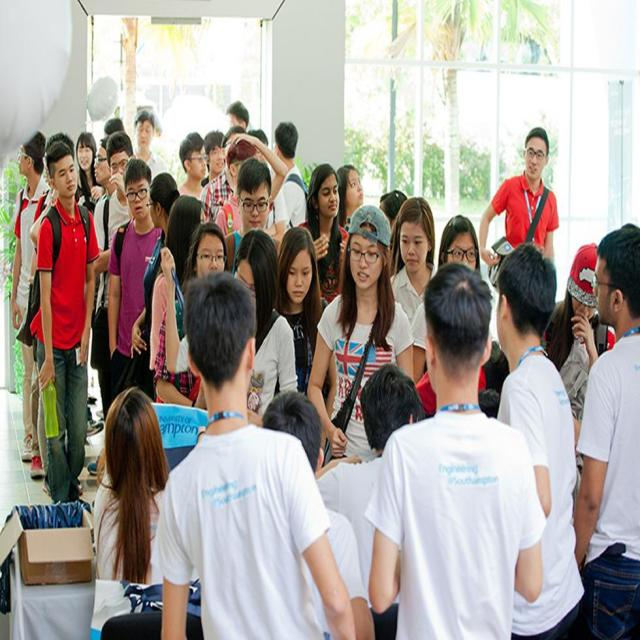body: (157, 268, 359, 639), (368, 262, 545, 638), (493, 240, 587, 640), (316, 361, 428, 640), (305, 202, 415, 466), (260, 389, 375, 638), (30, 138, 97, 524), (91, 384, 208, 588), (30, 139, 89, 505), (539, 239, 616, 479), (28, 132, 76, 478), (8, 128, 54, 462), (408, 212, 495, 388), (106, 156, 163, 410), (477, 125, 560, 292), (92, 130, 136, 422), (233, 228, 299, 422), (562, 240, 615, 481), (130, 170, 182, 403), (272, 222, 332, 416), (148, 194, 208, 372), (215, 131, 289, 238), (297, 162, 351, 306), (224, 155, 282, 274), (388, 194, 439, 321), (270, 120, 310, 242), (127, 107, 171, 188), (75, 129, 105, 213), (176, 130, 208, 203), (334, 163, 364, 226), (224, 96, 266, 140), (200, 130, 227, 188), (376, 180, 406, 223), (84, 396, 104, 439), (102, 114, 124, 147)
